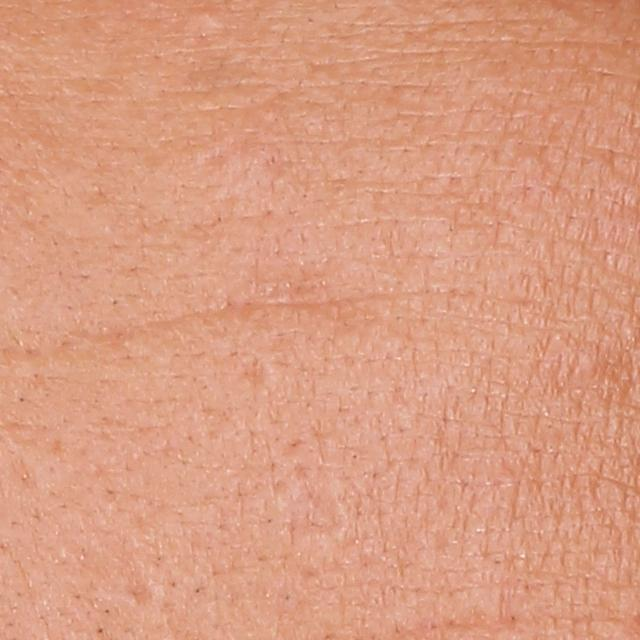atrophic_scar: (245, 355, 275, 390)
comedo: (188, 4, 232, 34)
